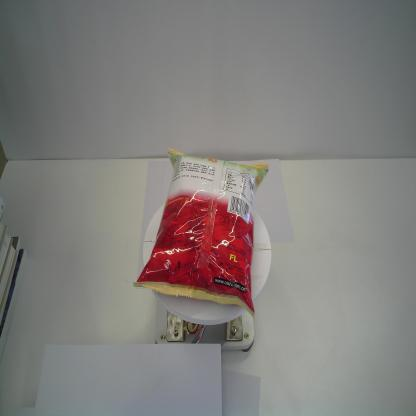Puffed Food: (133, 146, 270, 318)
